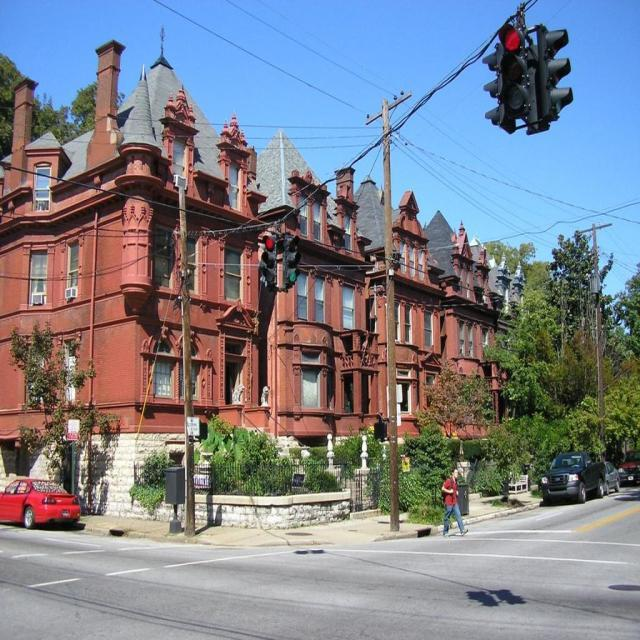off traffic light: (537, 22, 579, 120)
traffic light: (498, 20, 535, 115), (281, 235, 302, 285), (262, 233, 277, 281)
